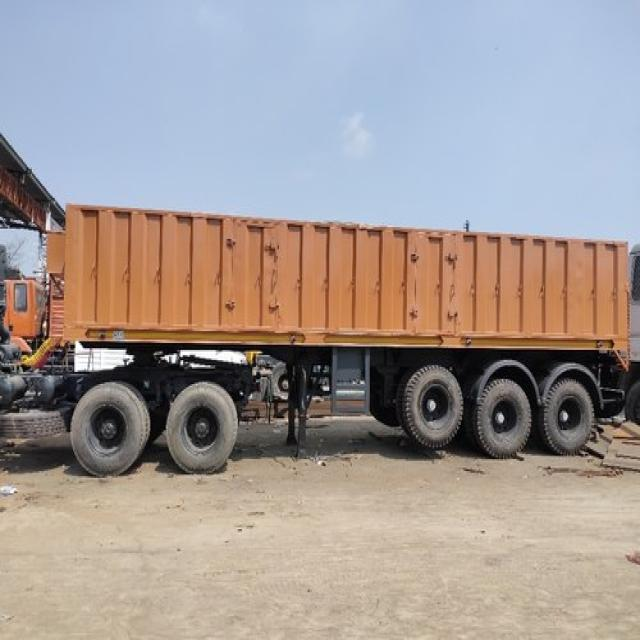truck: (0, 205, 631, 475)
